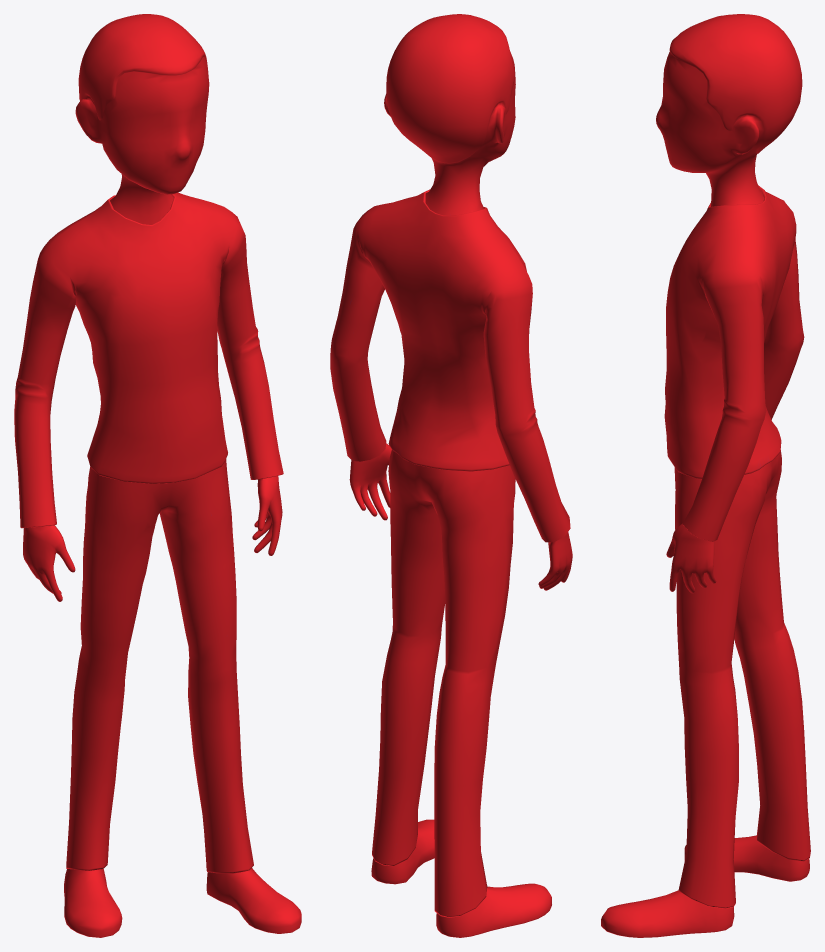
Rendered from Avatar.glb.
3 views of the same model, side by side, from view 1: azimuth 30°, elevation 25°; view 2: azimuth 150°, elevation 25°; view 3: azimuth 270°, elevation 25° (orthographic).
Visible parts, largest first — view 1: mesh_id27; view 2: mesh_id27; view 3: mesh_id27.
Part boxes in pixels (x1=…): mesh_id27: x1=14, y1=14, x2=301, y2=937; mesh_id27: x1=330, y1=14, x2=572, y2=937; mesh_id27: x1=601, y1=14, x2=810, y2=937.
Bounding box in the file's own units: 0.1472 × 0.52 × 0.1139.
Materials: 1 (1 with a texture image).
